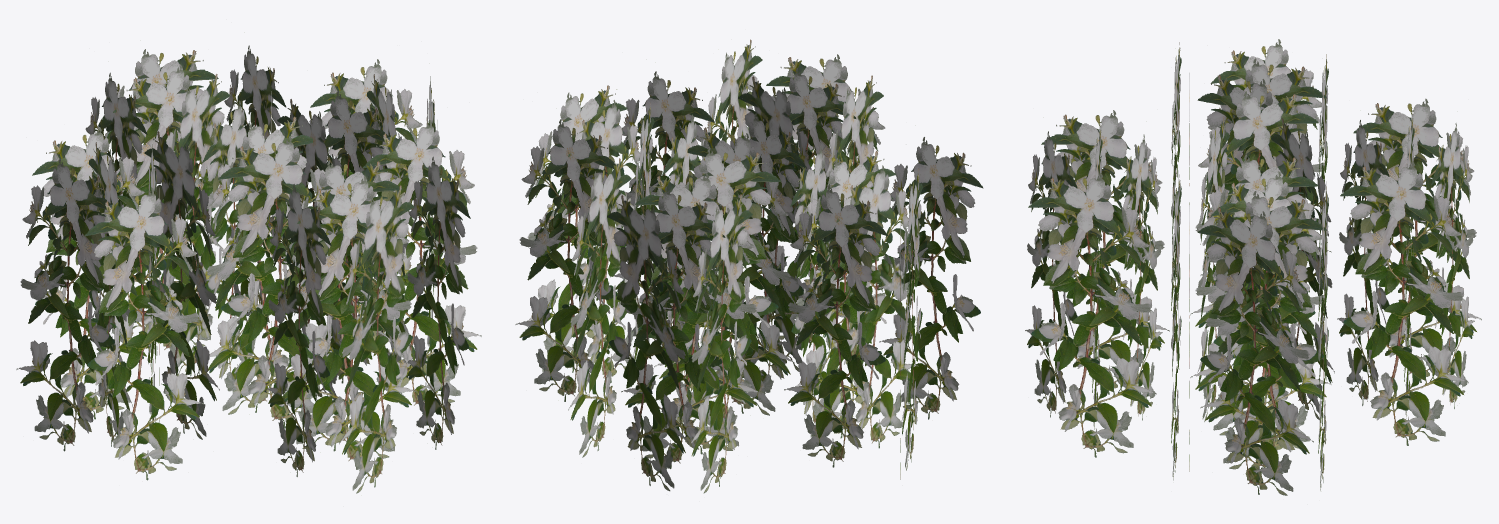
File: bush9.FBX
The picture shows the model from 3 angles, left to right: view 1: azimuth 30°, elevation 25°; view 2: azimuth 150°, elevation 25°; view 3: azimuth 270°, elevation 25°; orthographic projection. The views are drawn at different scales.
Visible parts, largest first — view 1: Box001; view 2: Box001; view 3: Box001.
Boxes of the visible parts, <box> form: Box001: <box>16,45,481,493</box>; Box001: <box>515,39,983,493</box>; Box001: <box>1025,39,1481,495</box>.
Size of the model in its own units: 4.44 by 3 by 4.31.
